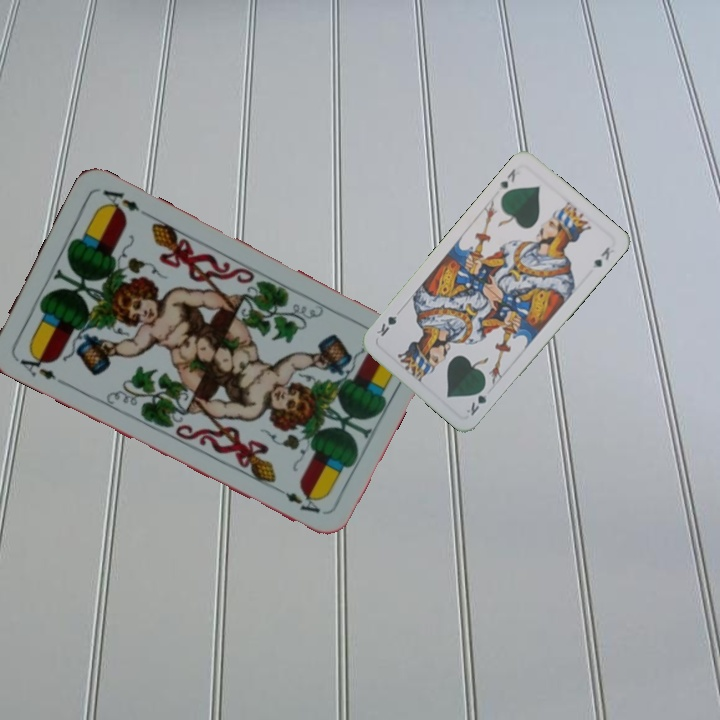EA: (11, 347, 59, 383)
GK: (462, 381, 490, 419), (495, 164, 518, 194)
